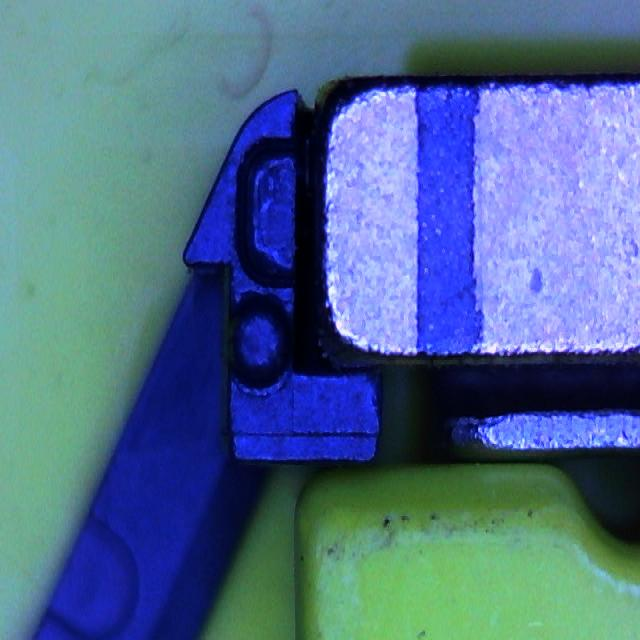lacking: (234, 136, 304, 290)
